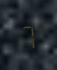seven: (19, 20, 36, 49)
